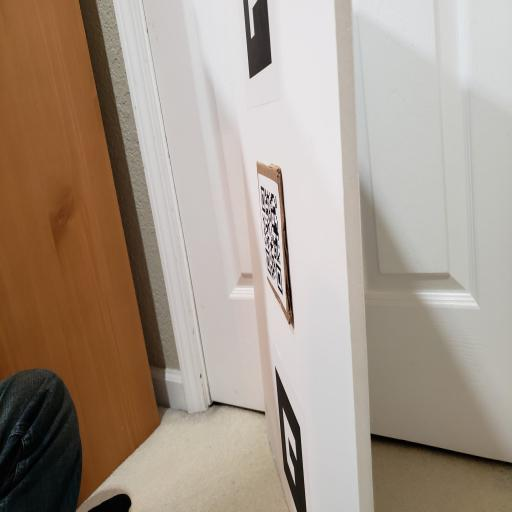QR_CODE: (256, 180, 291, 303)
